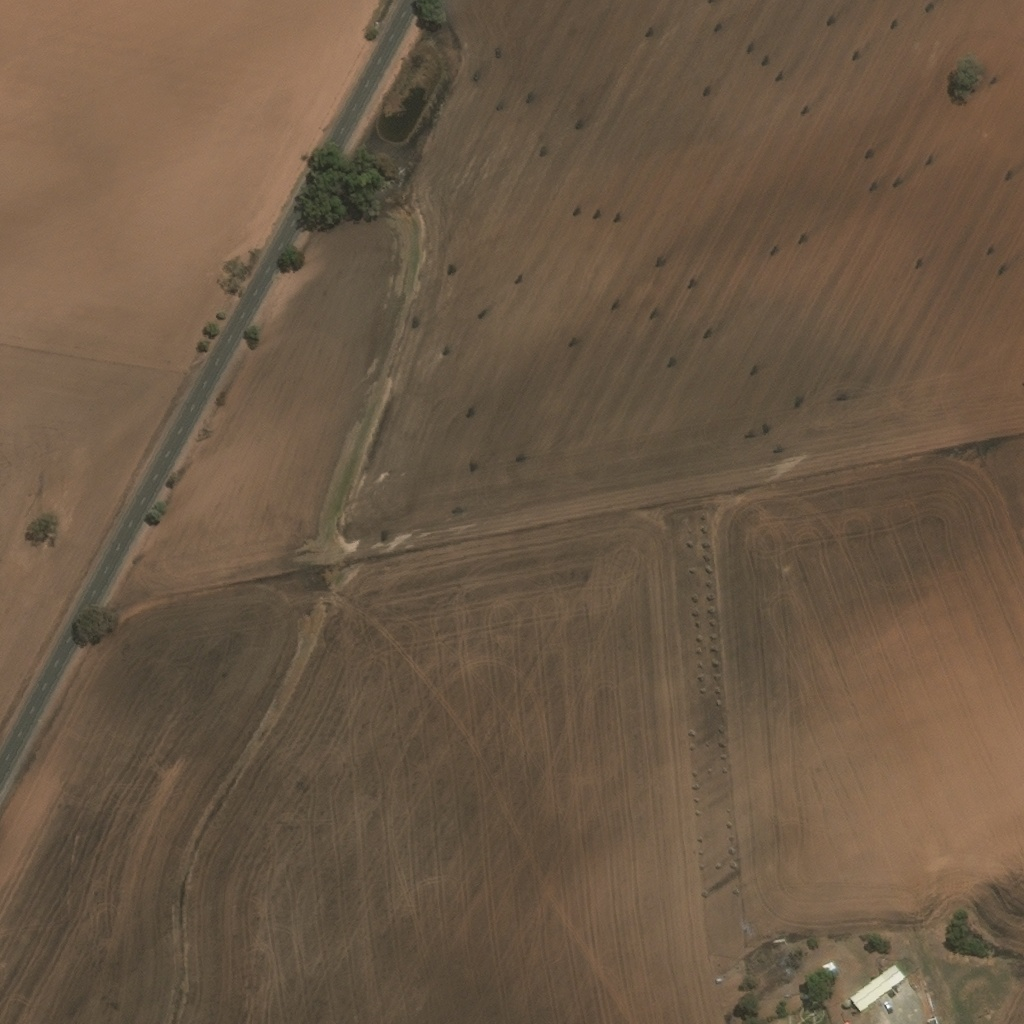0 no-damage: (850, 963, 907, 1012), (824, 960, 837, 971), (843, 998, 852, 1007), (773, 939, 785, 944)
